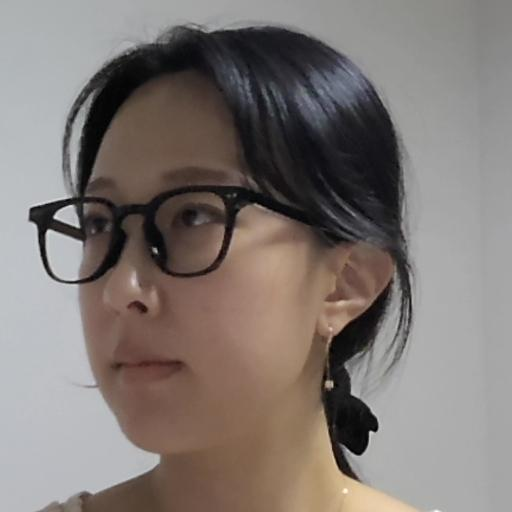no_glasses: (22, 34, 379, 454)
